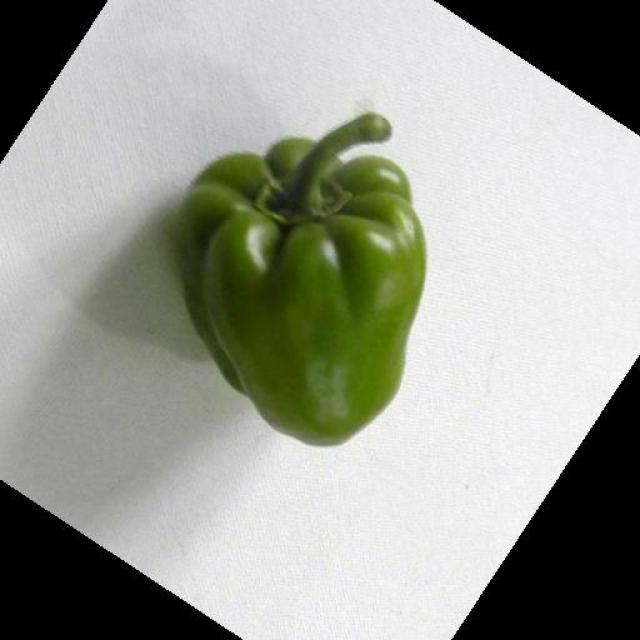Fresh_Capsicum: (190, 146, 440, 411)
